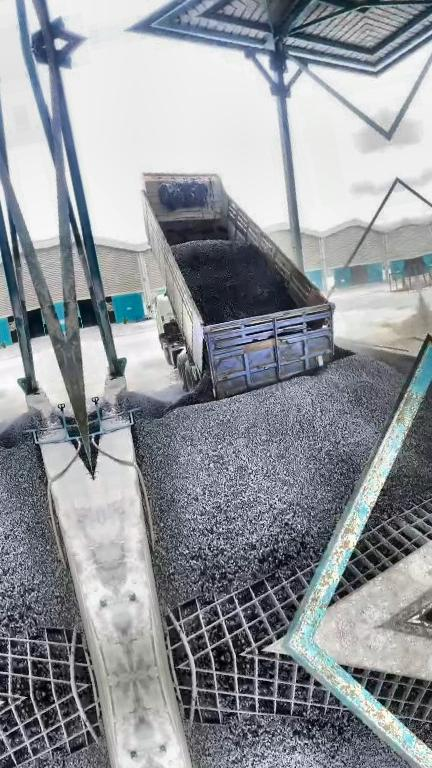gravel: (113, 346, 412, 605), (173, 240, 294, 319), (371, 376, 432, 522), (87, 411, 100, 476)
sand: (374, 293, 427, 354)
